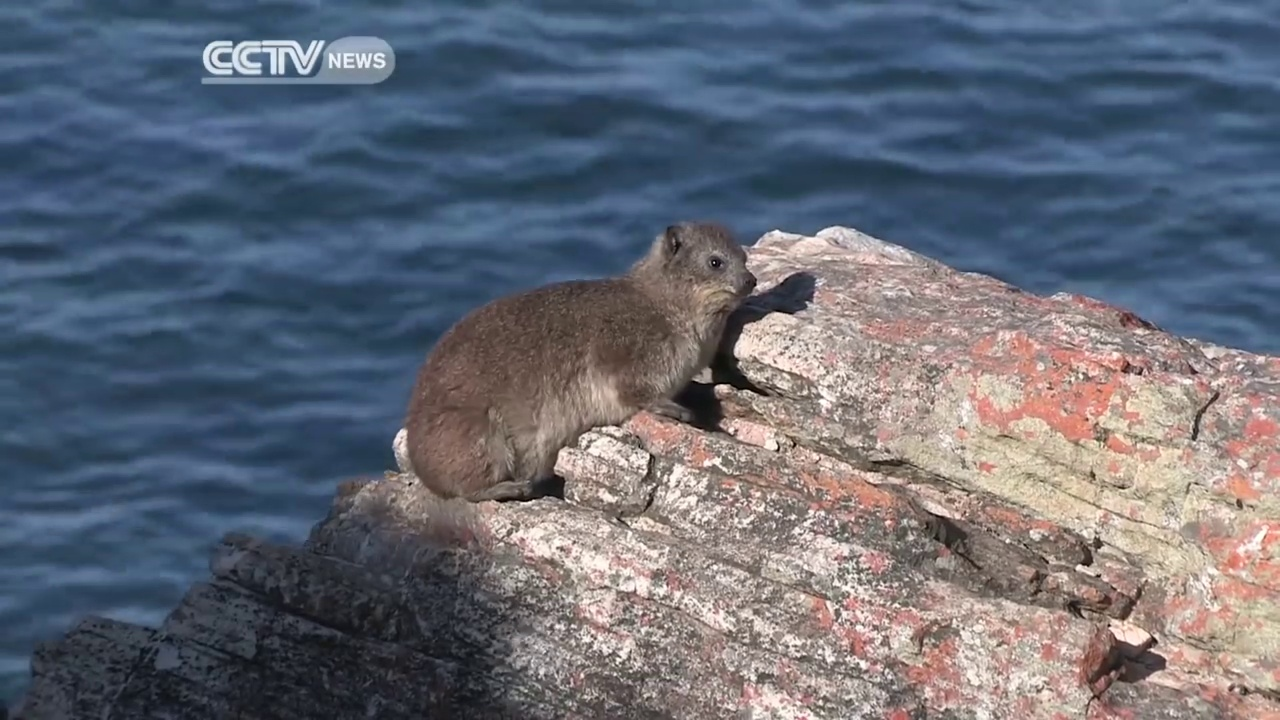Rock Hyrex: (407, 220, 760, 516)
